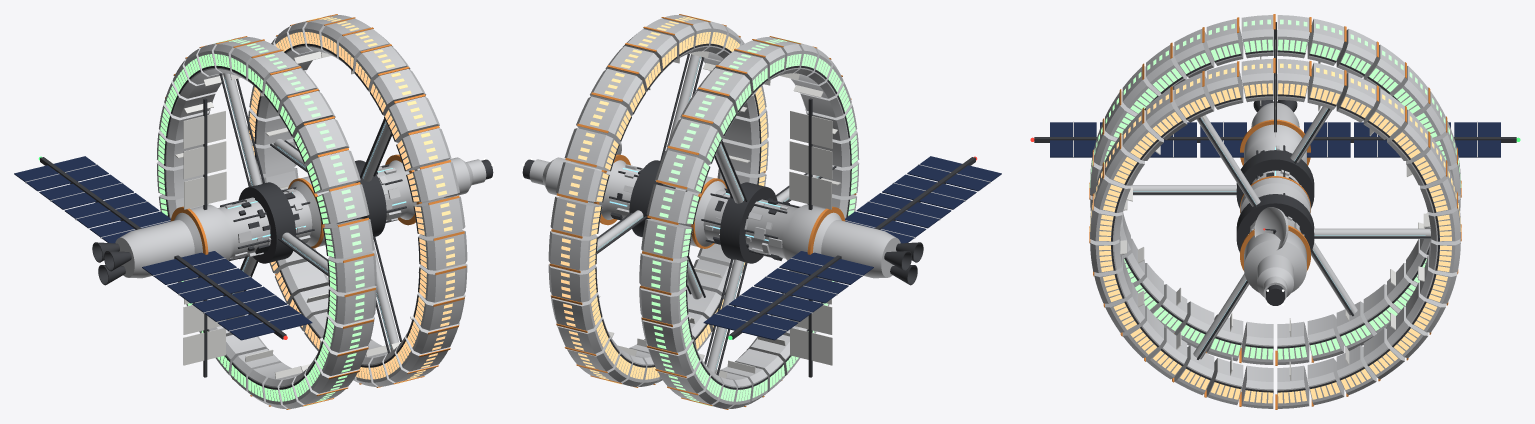
The model's file is station.glb.
3 views of the same model, side by side, from view 1: azimuth 30°, elevation 25°; view 2: azimuth 150°, elevation 25°; view 3: azimuth 270°, elevation 25° (orthographic).
Visible parts, largest first — view 1: RingB_Hull, RingA_Hull, Core_SolarPanel, Core_Hull, RingB_Window_Garden, RingA_Window_Warm, Core_Radiator, Core_HullDark, RingB_HullDark, RingA_HullDark, RingB_Accent, RingA_Accent (+3 smaller); view 2: RingB_Hull, RingA_Hull, Core_SolarPanel, Core_Hull, RingB_Window_Garden, RingA_Window_Warm, Core_Radiator, Core_HullDark, RingB_HullDark, RingA_HullDark, RingB_Accent, RingA_Accent (+3 smaller); view 3: RingA_Hull, RingB_Hull, RingA_Window_Warm, RingB_Window_Garden, Core_SolarPanel, Core_Hull, RingA_HullDark, RingB_HullDark, Core_HullDark, Core_Accent, RingA_Radiator, RingA_Accent (+3 smaller).
Part boxes in pixels (left/top/right/bottom): RingB_Hull: left=157, top=37, right=376, bottom=408; RingA_Hull: left=247, top=15, right=467, bottom=386; Core_SolarPanel: left=14, top=156, right=312, bottom=340; Core_Hull: left=25, top=157, right=486, bottom=332; RingB_Window_Garden: left=158, top=39, right=364, bottom=406; RingA_Window_Warm: left=249, top=17, right=454, bottom=384; Core_Radiator: left=183, top=111, right=226, bottom=365; Core_HullDark: left=40, top=98, right=493, bottom=377; RingB_HullDark: left=164, top=66, right=330, bottom=389; RingA_HullDark: left=254, top=43, right=420, bottom=367; RingB_Accent: left=165, top=36, right=375, bottom=409; RingA_Accent: left=275, top=14, right=466, bottom=387; RingB_Hull: left=639, top=37, right=859, bottom=408; RingA_Hull: left=548, top=15, right=768, bottom=386; Core_SolarPanel: left=703, top=156, right=1001, bottom=340; Core_Hull: left=529, top=157, right=990, bottom=332; RingB_Window_Garden: left=651, top=39, right=857, bottom=406; RingA_Window_Warm: left=560, top=17, right=767, bottom=384; Core_Radiator: left=789, top=111, right=832, bottom=365; Core_HullDark: left=522, top=98, right=975, bottom=377; RingB_HullDark: left=685, top=66, right=851, bottom=389; RingA_HullDark: left=595, top=43, right=761, bottom=367; RingB_Accent: left=640, top=36, right=856, bottom=409; RingA_Accent: left=549, top=14, right=765, bottom=387; RingA_Hull: left=1090, top=59, right=1460, bottom=408; RingB_Hull: left=1090, top=15, right=1460, bottom=364; RingA_Window_Warm: left=1089, top=63, right=1461, bottom=403; RingB_Window_Garden: left=1089, top=19, right=1461, bottom=359; Core_SolarPanel: left=1050, top=122, right=1500, bottom=157; Core_Hull: left=1073, top=102, right=1477, bottom=299; RingA_HullDark: left=1111, top=94, right=1439, bottom=392; RingB_HullDark: left=1123, top=50, right=1429, bottom=348; Core_HullDark: left=1034, top=22, right=1516, bottom=305; Core_Accent: left=1240, top=119, right=1310, bottom=271; RingA_Radiator: left=1120, top=100, right=1430, bottom=380; RingA_Accent: left=1089, top=58, right=1461, bottom=409.
Bounding box in the file's own units: 119 × 100 × 132.
